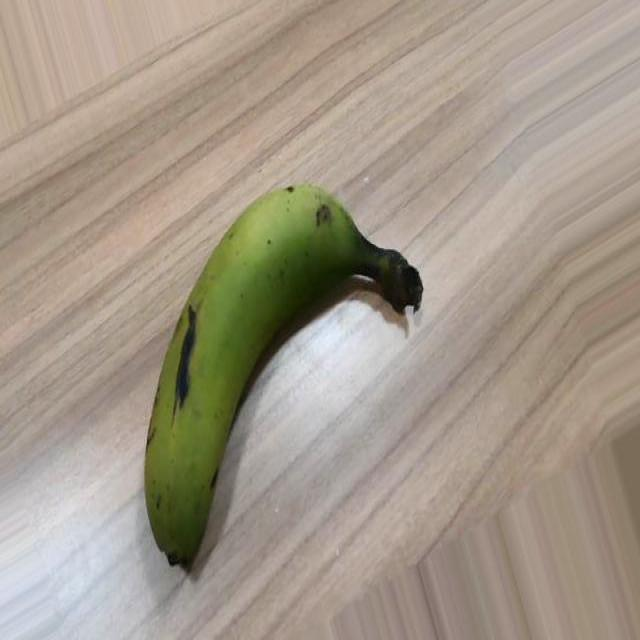Unripe: (142, 180, 425, 571)
